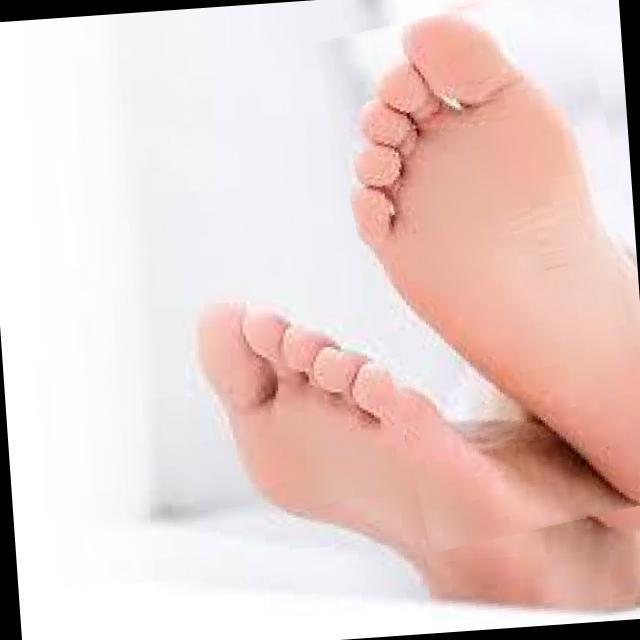No_Shoes: (293, 17, 640, 483), (164, 284, 600, 640)
